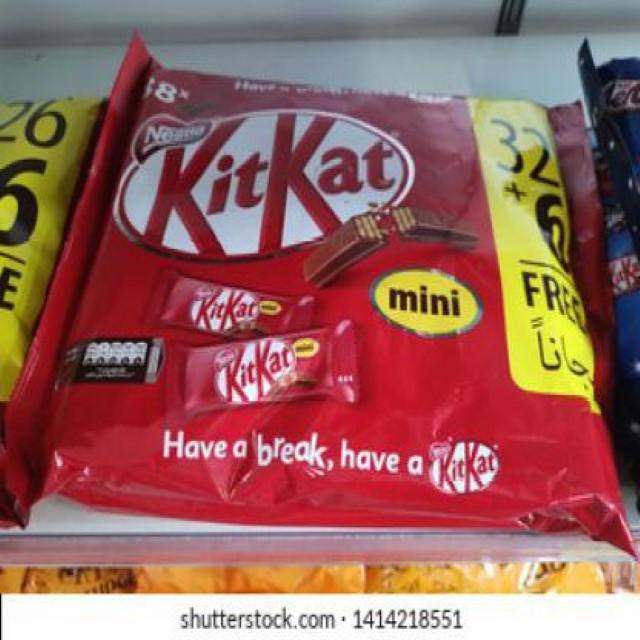kitkat_chocolate: (51, 42, 632, 558)
